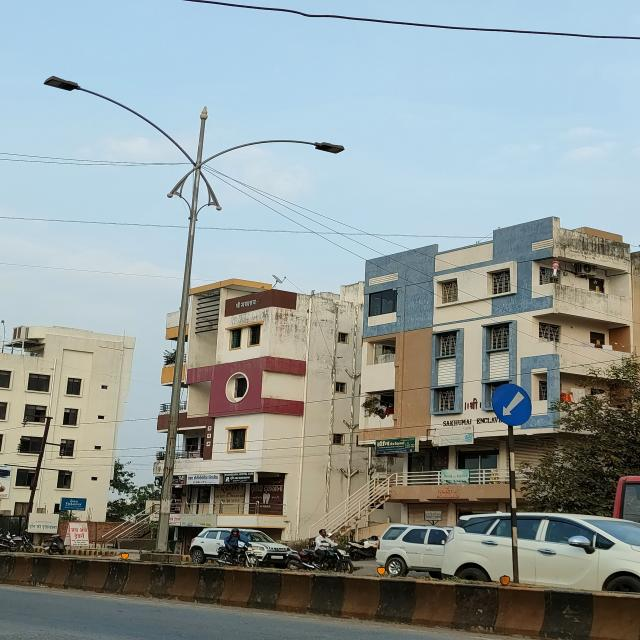COMPULSARY_KEEP_LEFT: (487, 378, 542, 433)
